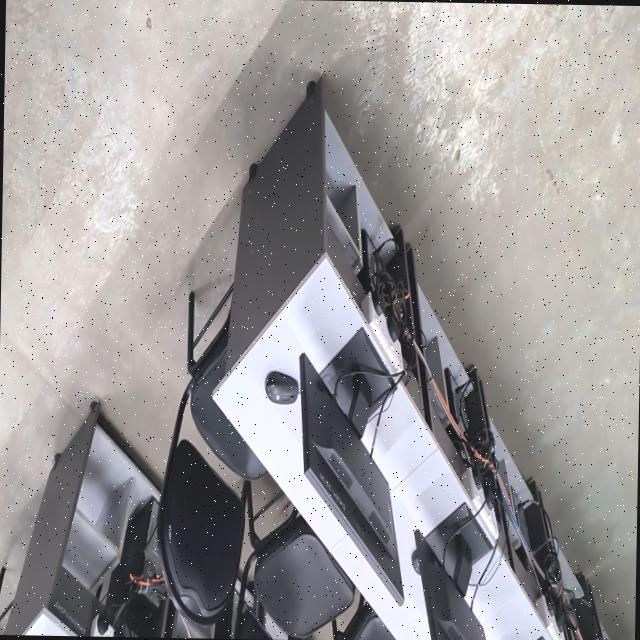Chair: (157, 284, 267, 625), (234, 480, 355, 640), (332, 594, 395, 640)
Cpu: (142, 505, 161, 578)
Monitor: (299, 353, 402, 605), (412, 530, 485, 640)
Mouse: (265, 371, 298, 404)
